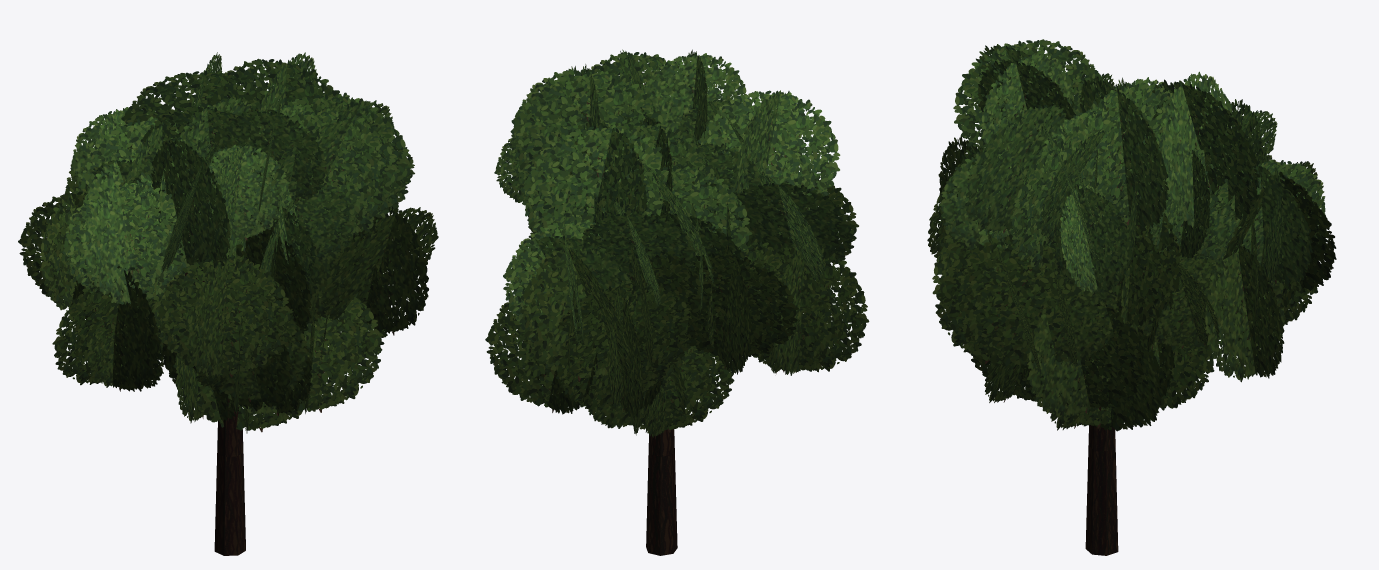
Rendered from camphor.glb.
3 renders of one model, left to right at view 1: azimuth 30°, elevation 25°; view 2: azimuth 150°, elevation 25°; view 3: azimuth 270°, elevation 25°, orthographic. The views are drawn at different scales.
Visible parts, largest first — view 1: tree_camphor; view 2: tree_camphor; view 3: tree_camphor.
Boxes of the visible parts, x1=… form: tree_camphor: x1=18, y1=52, x2=438, y2=555; tree_camphor: x1=485, y1=49, x2=869, y2=555; tree_camphor: x1=927, y1=39, x2=1336, y2=555.
Bounding box in the file's own units: 8.61 × 10.73 × 8.75.
Materials: 3 (3 with a texture image).
